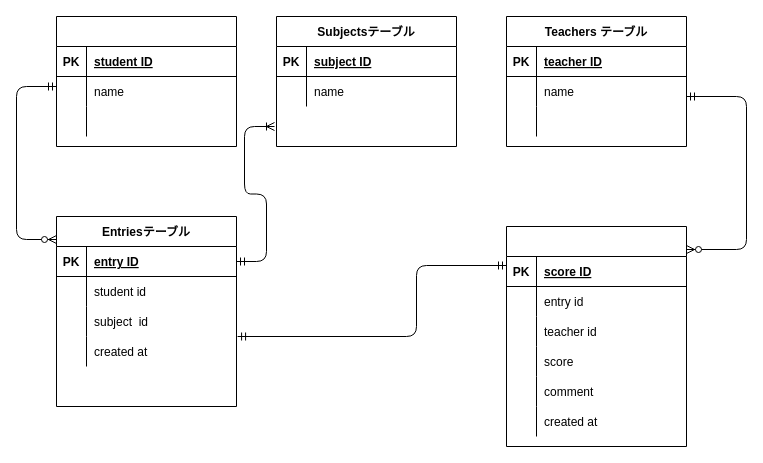
This 763x463 diagram has some shape labels left out. The shapes that lost their labels are listed below. From the top down, each one's box as (x1, y1, x2, y2) in pixels, then its label:
(56, 16, 236, 146): Students テーブル
(506, 226, 686, 446): Scoresテーブル
